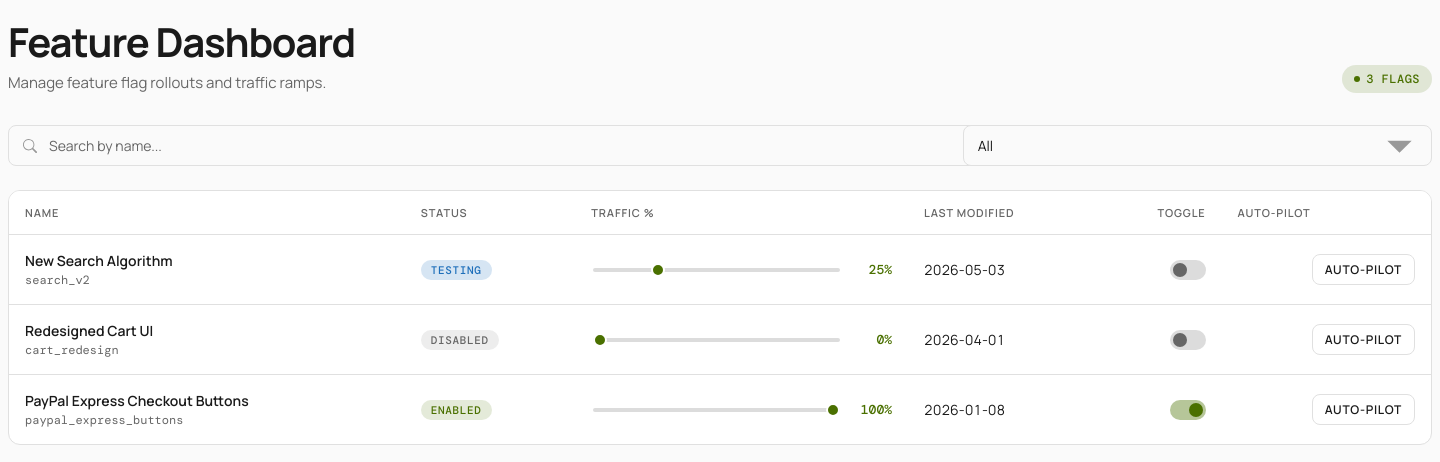
Test case: FeatureListScreen › filters by name via the search input
Type "cart" into the field named "Search features by name". click: (505, 146)
box: [8, 125, 1003, 166]
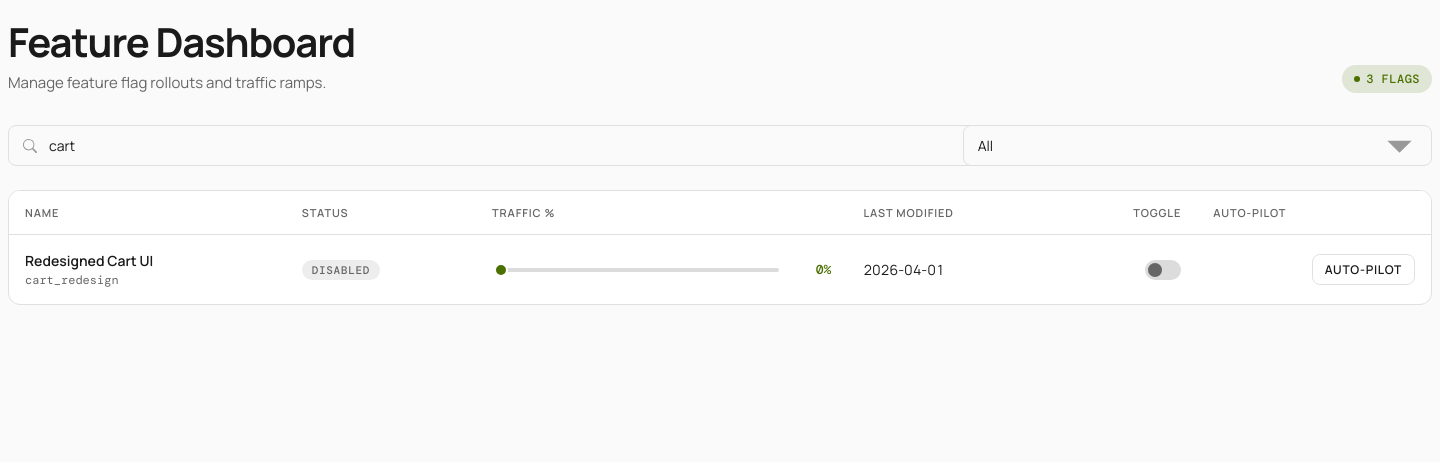
Expected: the text "Redesigned Cart UI" is shown, [25, 251, 153, 270]
Result: the text "New Search Algorithm" is gone
Result: the text "PayPal Express Checkout Buttons" is gone
